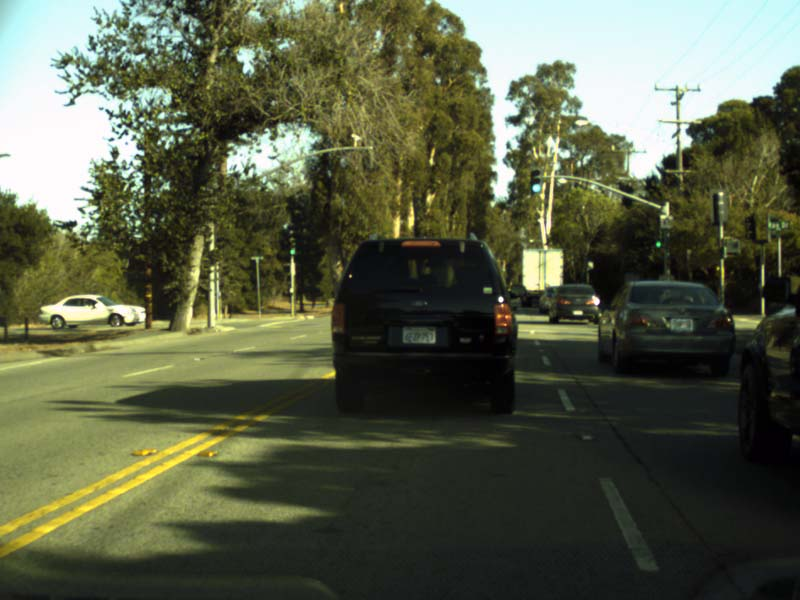Green: (530, 165, 541, 192), (288, 234, 298, 256), (656, 230, 661, 249)
